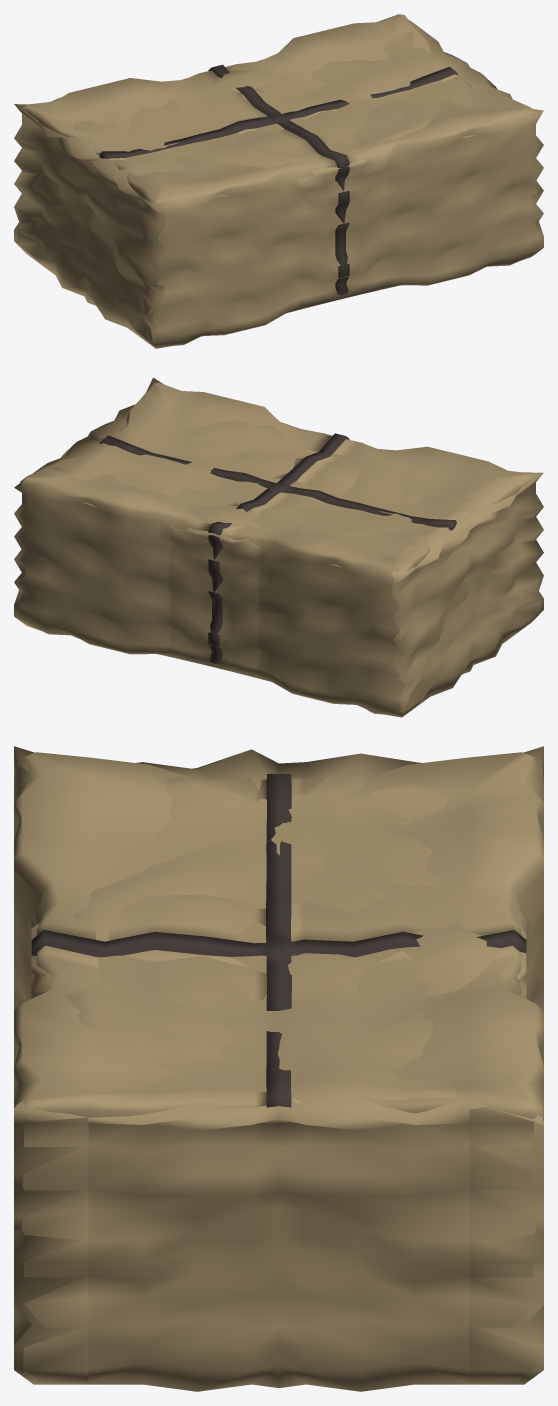
The model's file is Fardos.fbx.
3 renders of one model, top to bottom at view 1: azimuth 30°, elevation 25°; view 2: azimuth 150°, elevation 25°; view 3: azimuth 270°, elevation 25°, orthographic. The views are drawn at different scales.
Parts seen in each view (by area): view 1: Fardo, Fardo.001; view 2: Fardo, Fardo.001; view 3: Fardo.001, Fardo.
Boxes of the visible parts, <box> form: Fardo: <box>16,14,539,346</box>; Fardo.001: <box>14,20,543,348</box>; Fardo: <box>18,383,541,715</box>; Fardo.001: <box>14,377,543,717</box>; Fardo.001: <box>14,746,543,1391</box>; Fardo: <box>14,752,543,1381</box>.
Size of the model in its own units: 208 by 75.69 by 129.
